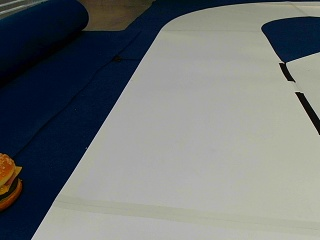burger: (0, 149, 23, 212)
